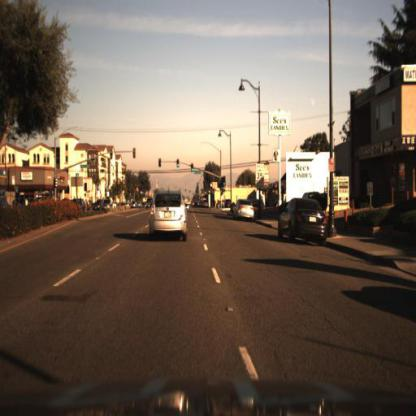car: (275, 195, 330, 252), (145, 184, 189, 249), (232, 198, 259, 227), (302, 186, 323, 204), (90, 199, 105, 217), (103, 200, 117, 217)
trafficLight-Green: (221, 178, 229, 194), (174, 156, 182, 169), (175, 159, 182, 171), (190, 162, 196, 175), (190, 167, 196, 178), (223, 178, 228, 188), (220, 187, 225, 195)
